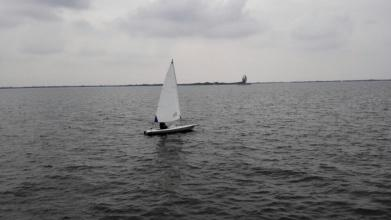fanchuan: (143, 55, 195, 138)
